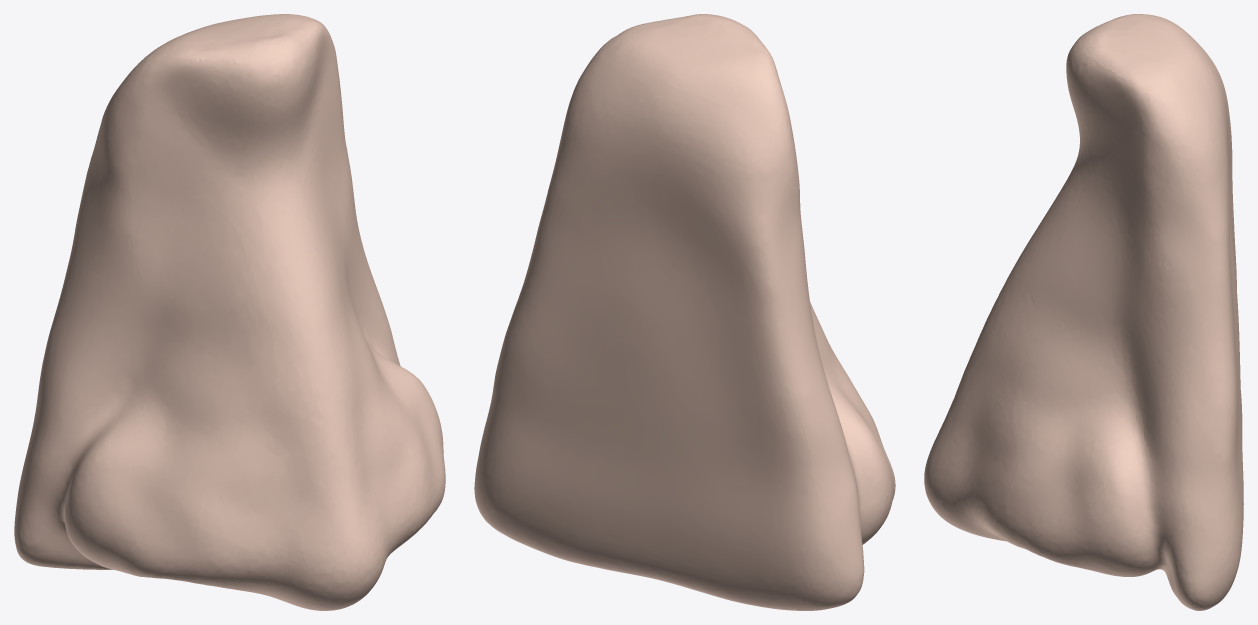
Rendered from nose.glb.
3 renders of one model, left to right at view 1: azimuth 30°, elevation 25°; view 2: azimuth 150°, elevation 25°; view 3: azimuth 270°, elevation 25°, orthographic. The views are drawn at different scales.
Parts seen in each view (by area): view 1: udambu; view 2: udambu; view 3: udambu.
Boxes of the visible parts, x1,y1,x2,y2 form: udambu: (14, 14, 445, 610); udambu: (474, 14, 895, 610); udambu: (924, 14, 1243, 610).
Size of the model in its own units: 0.4592 by 0.6 by 0.3412.
